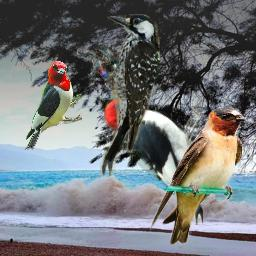Swallow: (150, 107, 247, 245)
Woodpecker: (104, 93, 203, 225), (89, 14, 160, 176), (23, 60, 82, 150)
